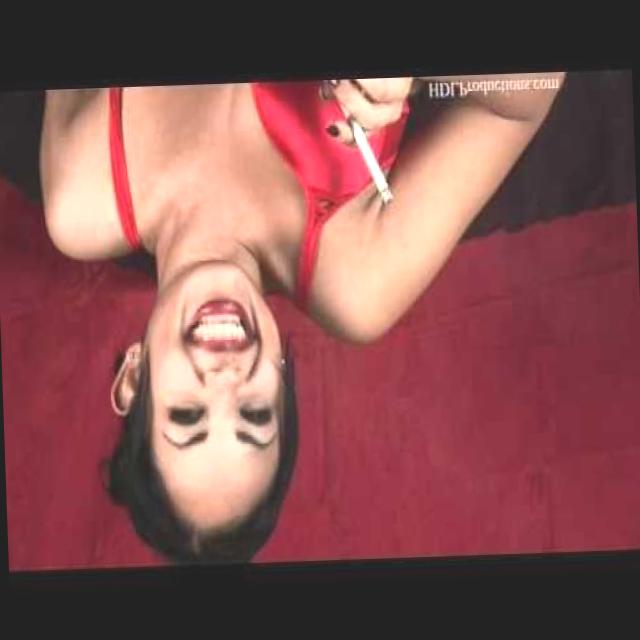cigarette: (341, 96, 408, 224)
